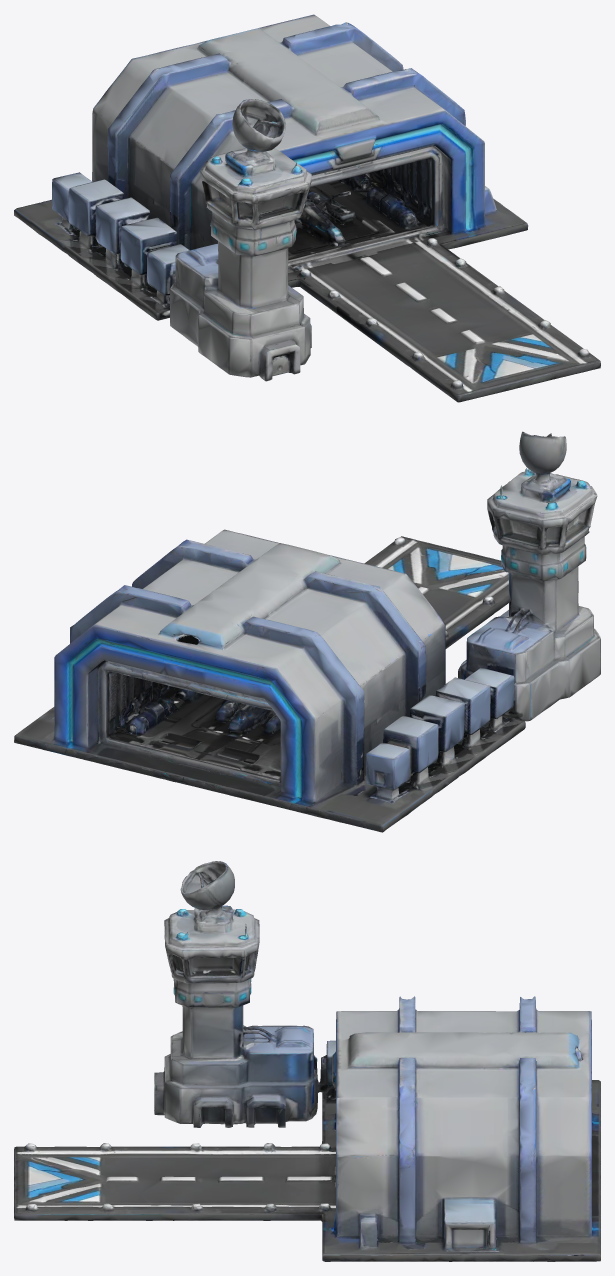
Rendered from hangar.glb.
3 views of the same model, one above another, from view 1: azimuth 30°, elevation 25°; view 2: azimuth 150°, elevation 25°; view 3: azimuth 270°, elevation 25° (orthographic). The views are drawn at different scales.
Parts seen in each view (by area): view 1: Mesh1.0; view 2: Mesh1.0; view 3: Mesh1.0.
Part boxes in pixels (left/top/right/bottom): Mesh1.0: left=14, top=14, right=600, bottom=402; Mesh1.0: left=14, top=431, right=600, bottom=832; Mesh1.0: left=14, top=861, right=600, bottom=1261.
Size of the model in its own units: 1.36 by 0.8721 by 1.91.
1 material, 1 textured.
